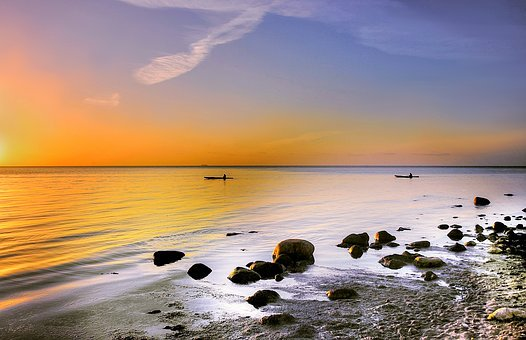sea: (2, 165, 526, 338)
sky: (1, 1, 526, 167)
